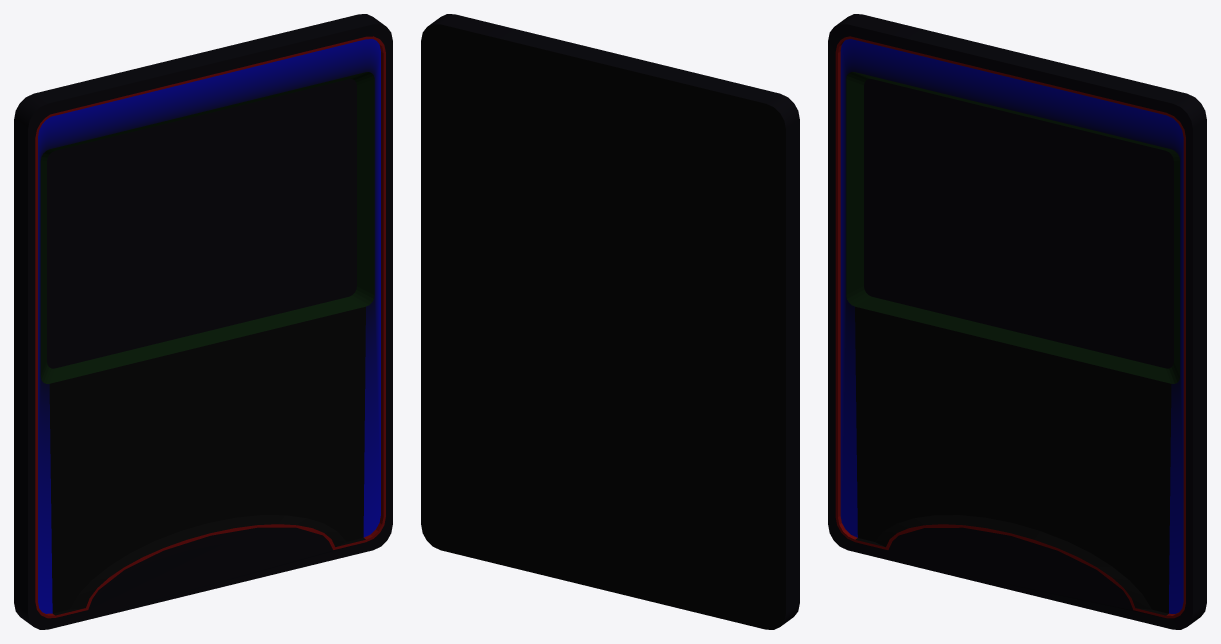
The model's file is artifactCard.fbx.
The picture shows the model from 3 angles, left to right: view 1: azimuth 30°, elevation 25°; view 2: azimuth 150°, elevation 25°; view 3: azimuth 330°, elevation 25°; orthographic projection.
Visible parts, largest first — view 1: svgMesh2; view 2: svgMesh2; view 3: svgMesh2.
Part boxes in pixels (bbox=[...]): svgMesh2: bbox=[14, 14, 392, 629]; svgMesh2: bbox=[421, 14, 799, 629]; svgMesh2: bbox=[828, 14, 1206, 629].
Bounding box in the file's own units: 7.26 × 10 × 0.4791.
